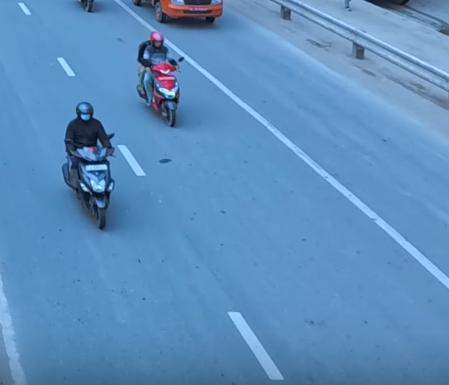scooter: (59, 133, 124, 241), (133, 58, 186, 128)
